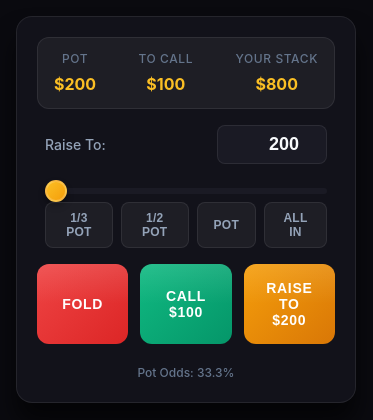
Scenario: BettingControls › Preset Betting Buttons › should set bet amount to all chips
Click the button with aria-label "Go all in with all chips" at (296, 225), box x1=264 y1=202 x2=327 y2=248
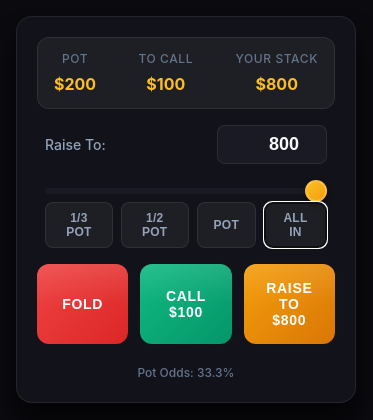
Expected: the number field holds "800", x1=217 y1=125 x2=327 y2=164
